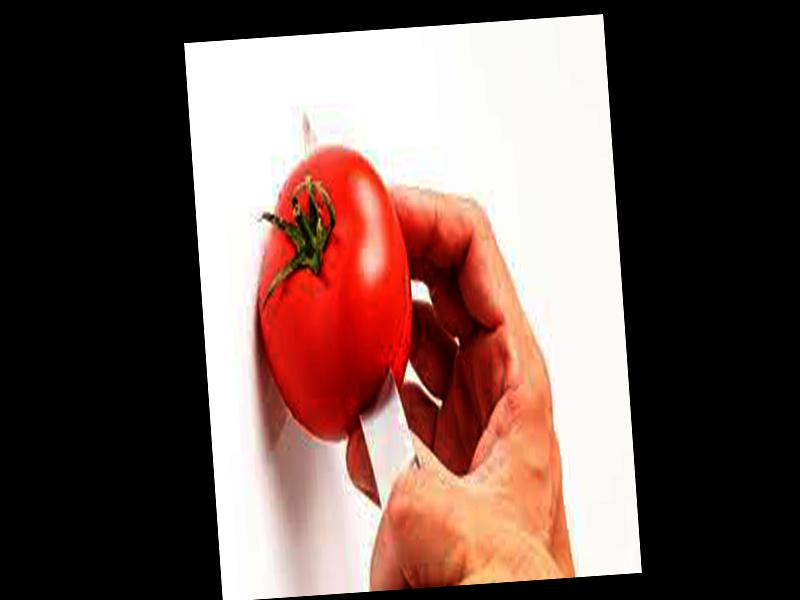Tomato: (248, 147, 422, 444)
